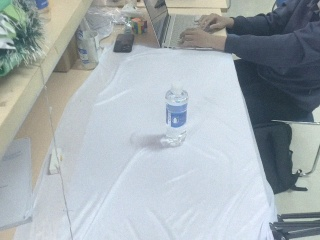bottle: (161, 81, 189, 148), (75, 19, 99, 70)
